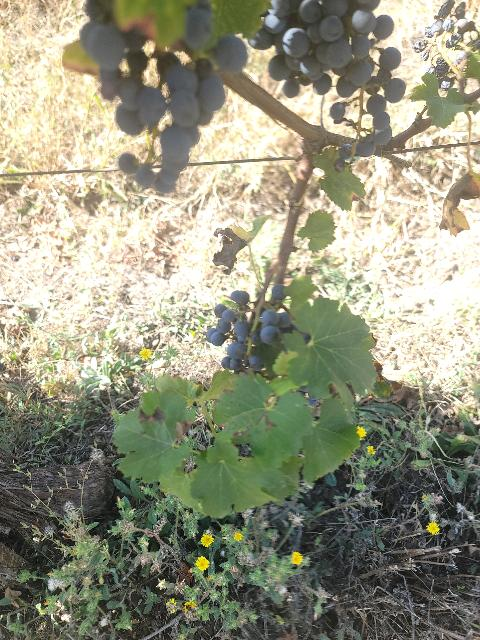grapes: (63, 0, 248, 194), (249, 0, 394, 98), (206, 290, 295, 376)
